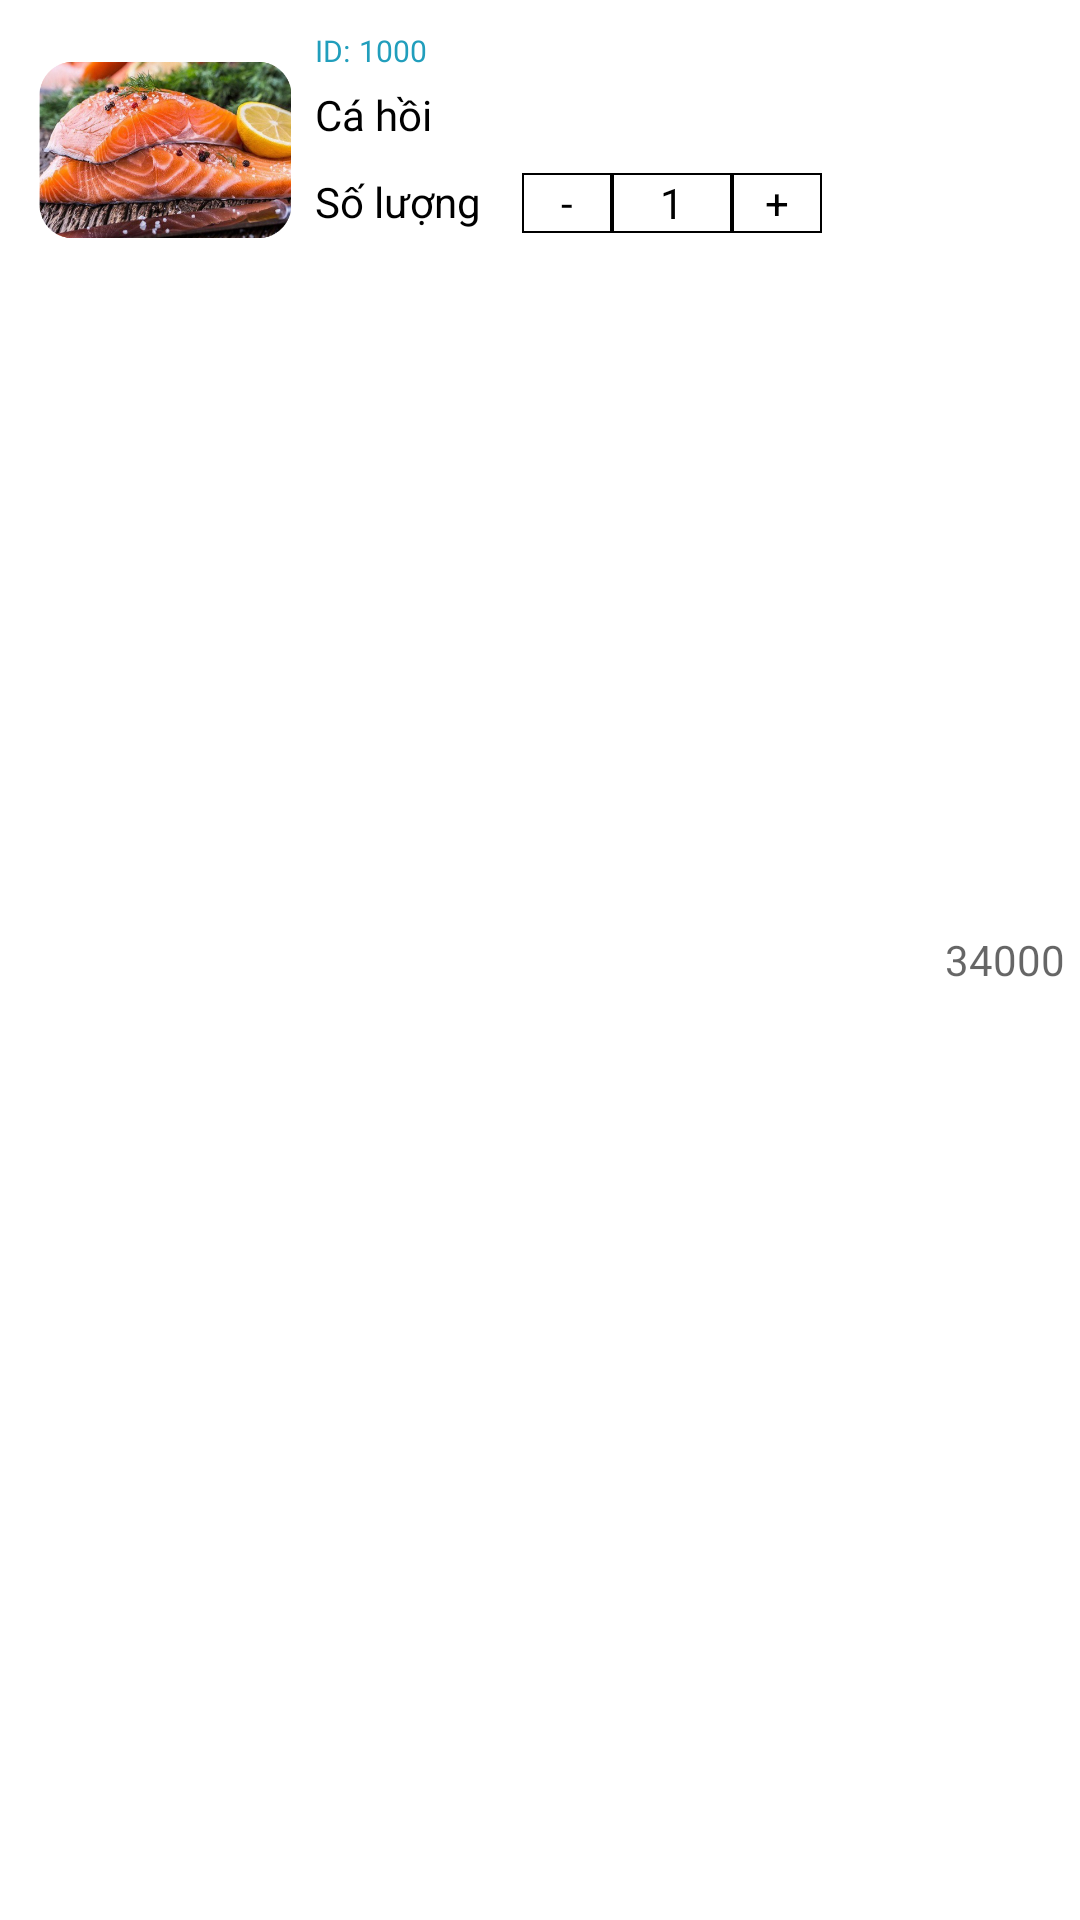

Point at icon controls on the screen. Image size 1080*1920, points as [x,y].
mockup product item: [165,150]
